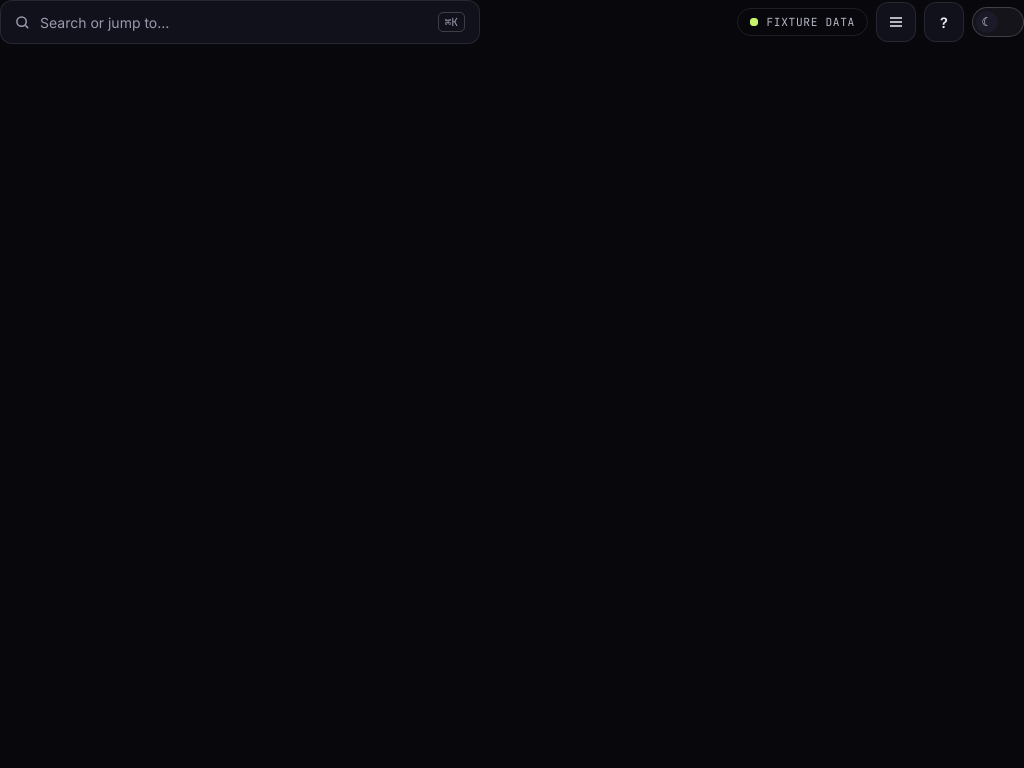
Scenario: PortalTopbar › opens the palette with ⌘K and filters nav
Press k
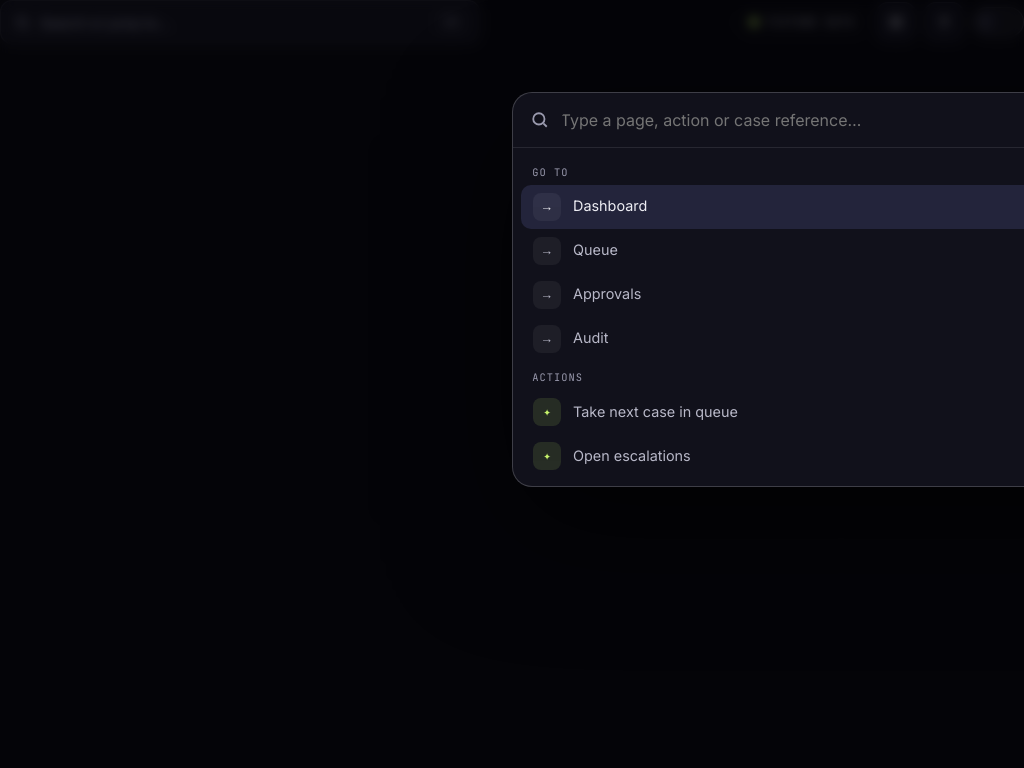
Type "queue" into the dropdown with placeholder "Type a page, action or case reference…".
click(792, 120); type("queue")  # box [561, 110, 1023, 130]
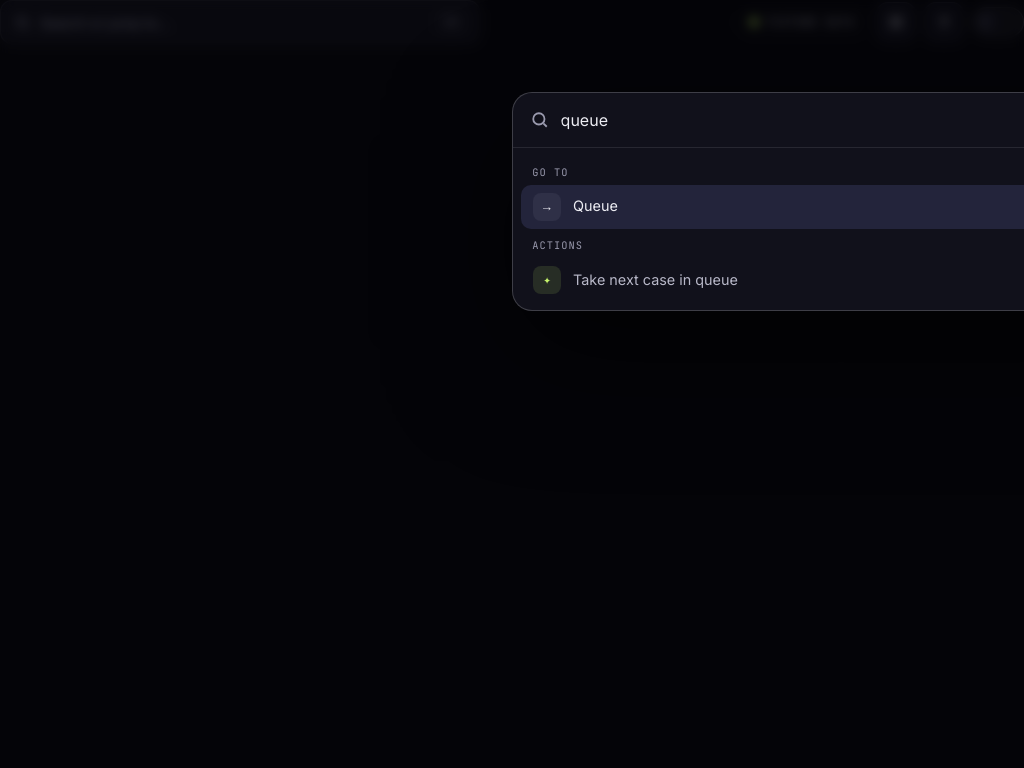
Now the option "Audit" is gone
